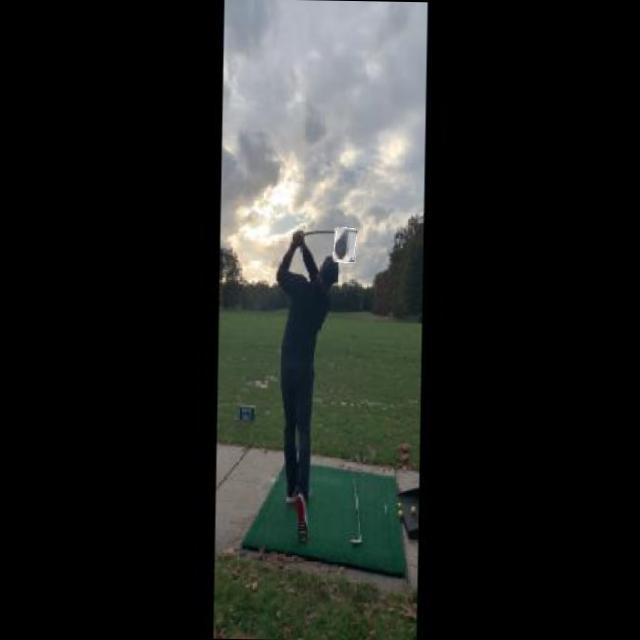club head: (333, 228, 356, 262)
